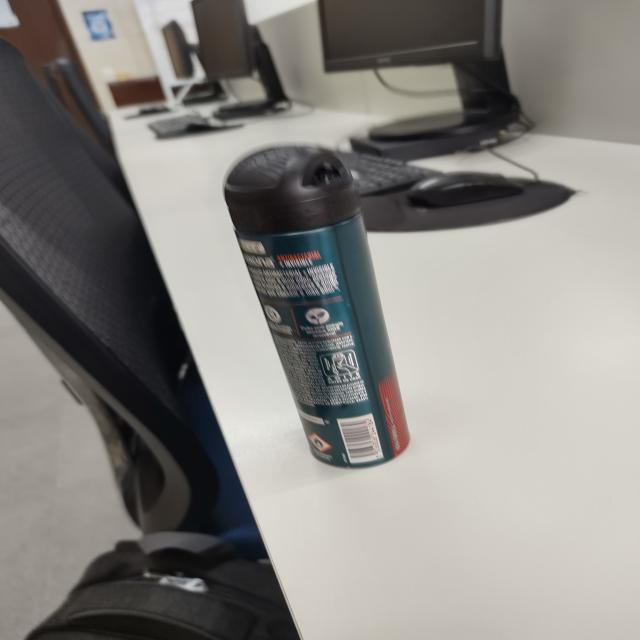Desodorante Azul: (225, 146, 410, 468)
